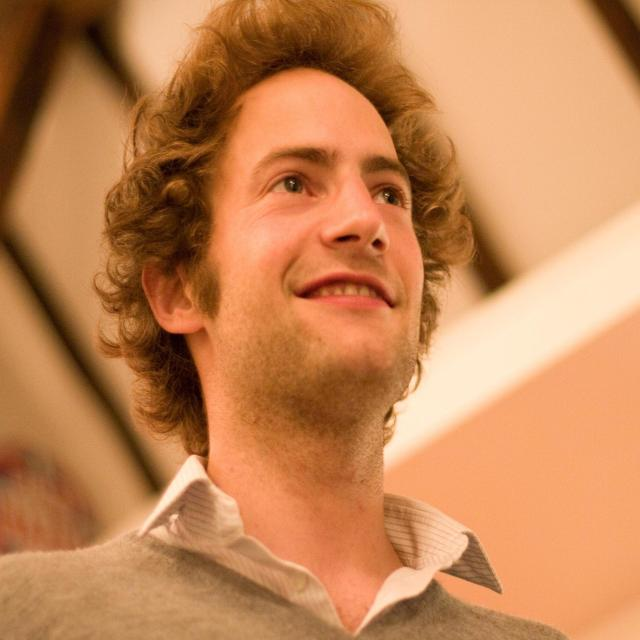no-glass: (268, 165, 416, 213)
